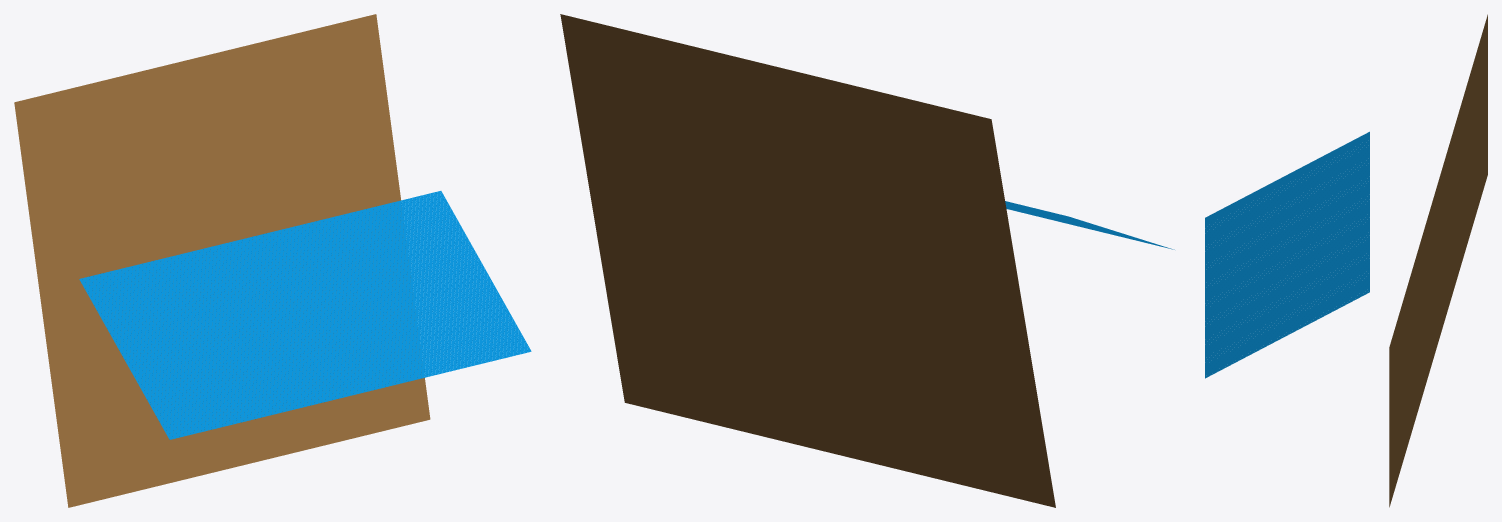
File: downloaded_model.glb
3 renders of one model, left to right at view 1: azimuth 30°, elevation 25°; view 2: azimuth 150°, elevation 25°; view 3: azimuth 270°, elevation 25°, orthographic. The views are drawn at different scales.
Parts seen in each view (by area): view 1: world; view 2: world; view 3: world.
Part boxes in pixels (x1,y1,x2,y2): world: (14,14,531,507); world: (560,14,1174,507); world: (1205,14,1487,507).
Size of the model in its own units: 10000 by 9659 by 7433.
